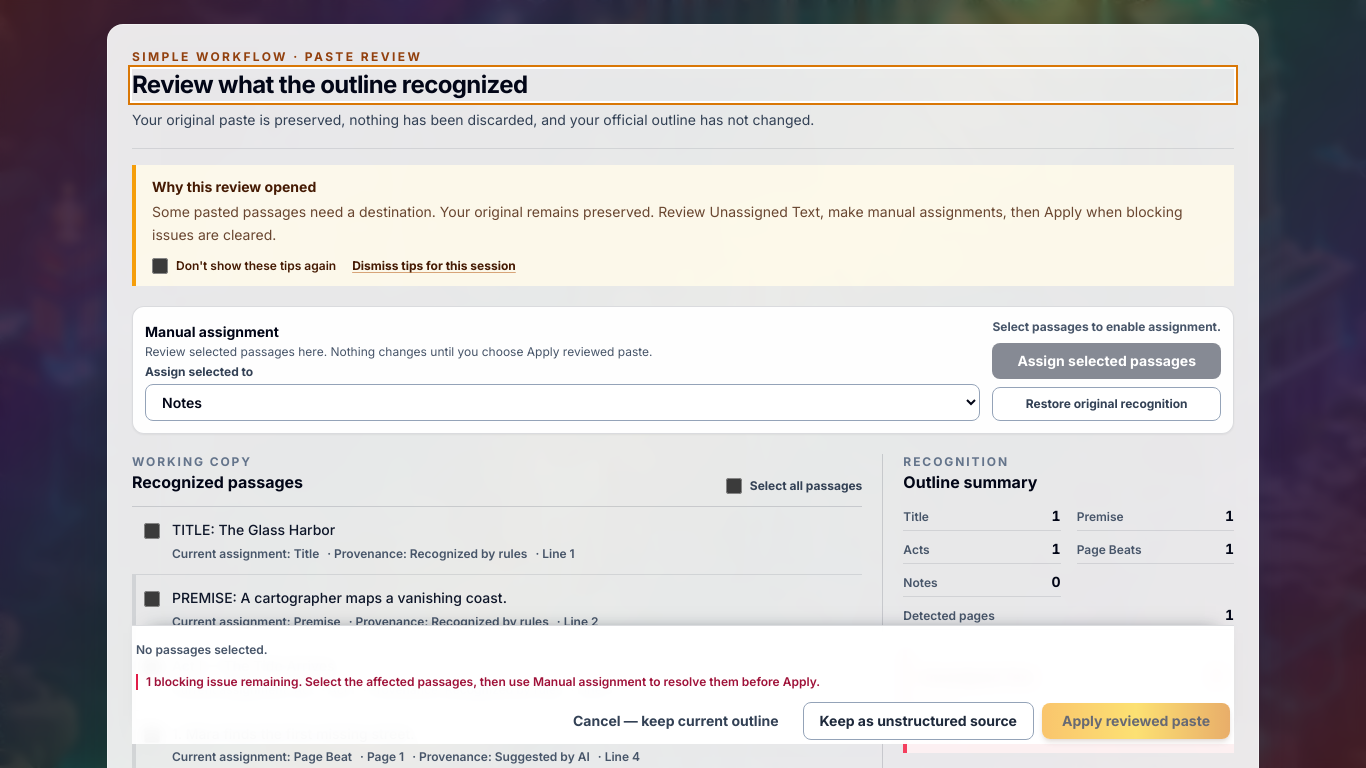
Test: WriterOutlinePasteReview › selects one or all passages with native checkboxes
Click the checkbox labelled "TITLE: The Glass Harbor" at (152, 531), box [144, 523, 160, 539]
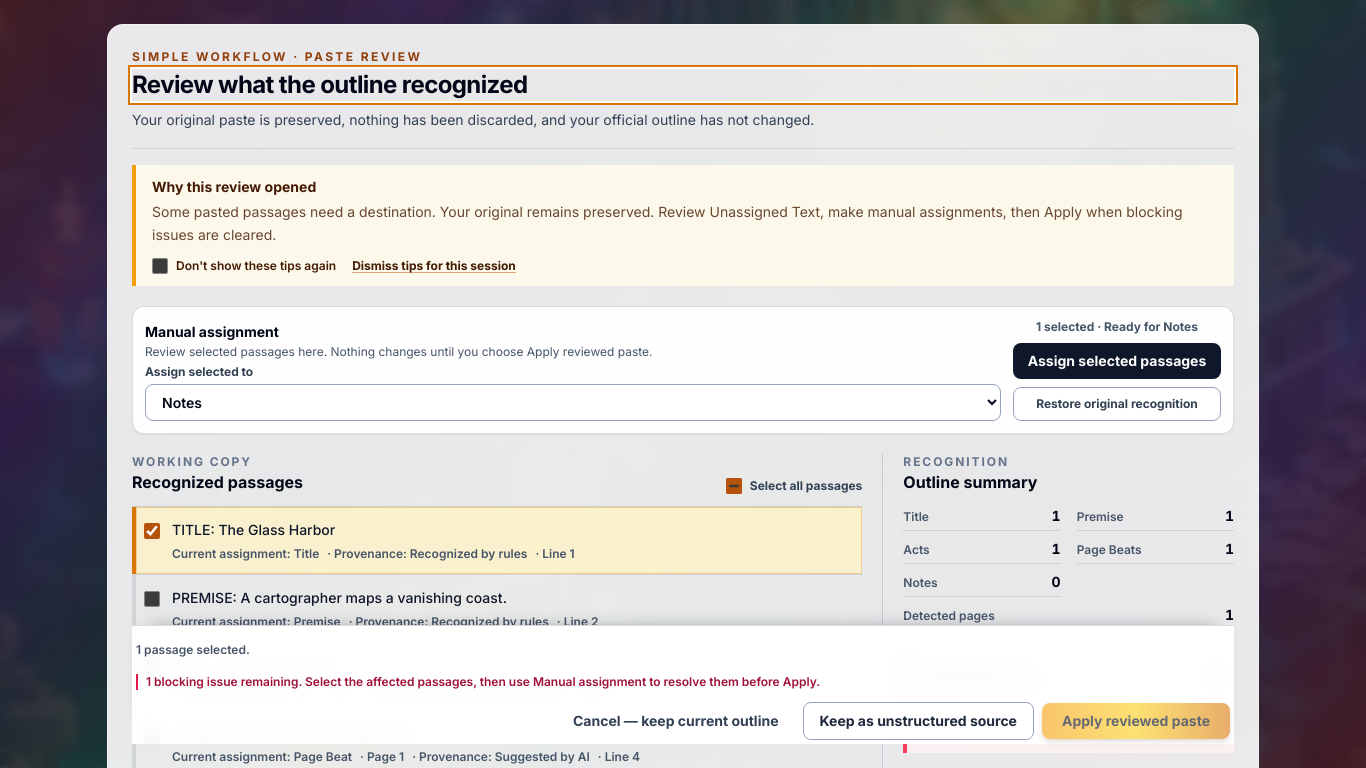
Result: the checkbox labelled "TITLE: The Glass Harbor" is checked at [144, 523, 160, 539]
Result: the message shows "1 passage selected" at [136, 642, 250, 657]
Click the checkbox labelled "Select all passages" at (734, 486), box [726, 478, 742, 494]
(page scrolled)
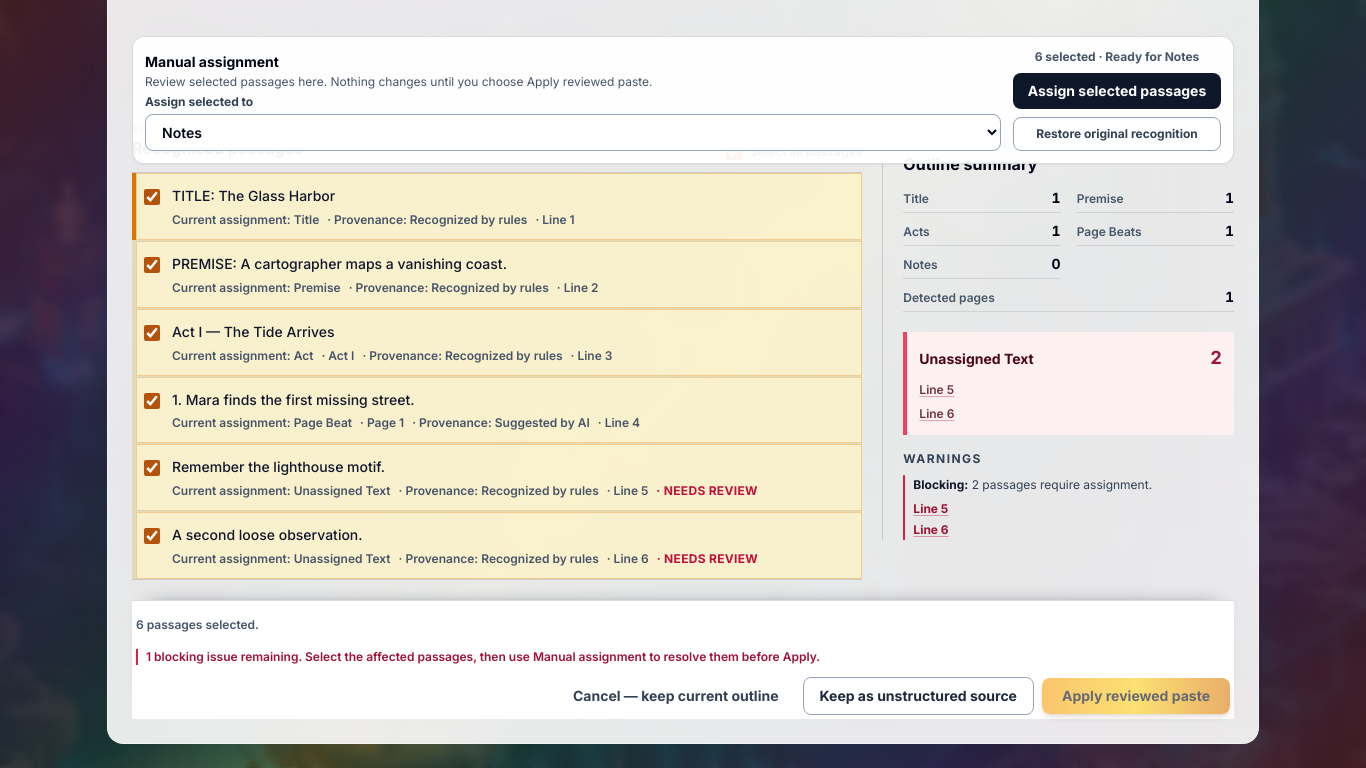
Result: the checkbox labelled "TITLE: The Glass Harbor" is checked at [144, 189, 160, 205]
Result: the checkbox labelled "PREMISE: A cartographer maps a vanishing coast." is checked at [144, 257, 160, 273]
Result: the checkbox labelled "Act I — The Tide Arrives" is checked at [144, 325, 160, 341]
